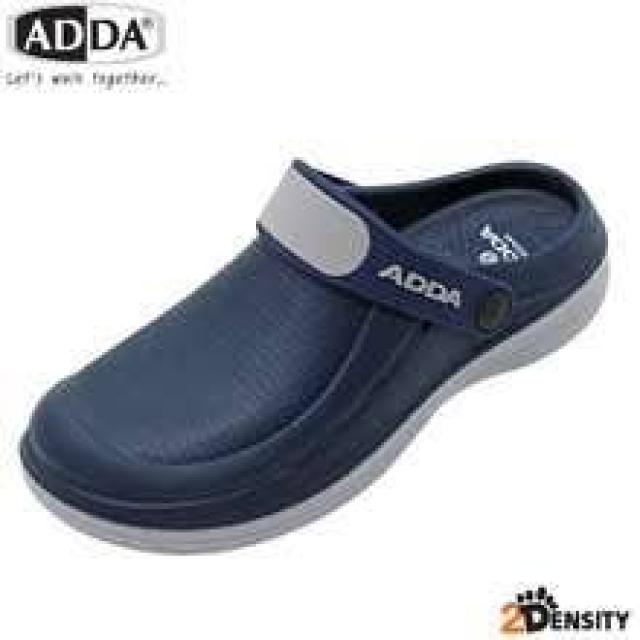shoe: (14, 152, 606, 557)
